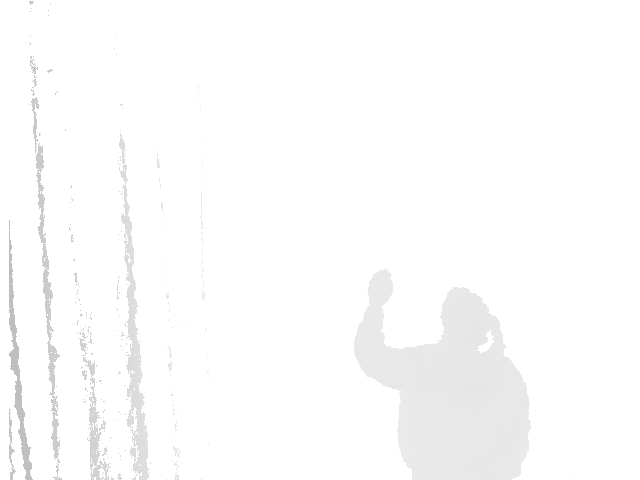hand: (365, 268, 393, 308)
head: (440, 286, 503, 350)
person: (352, 268, 532, 480)
